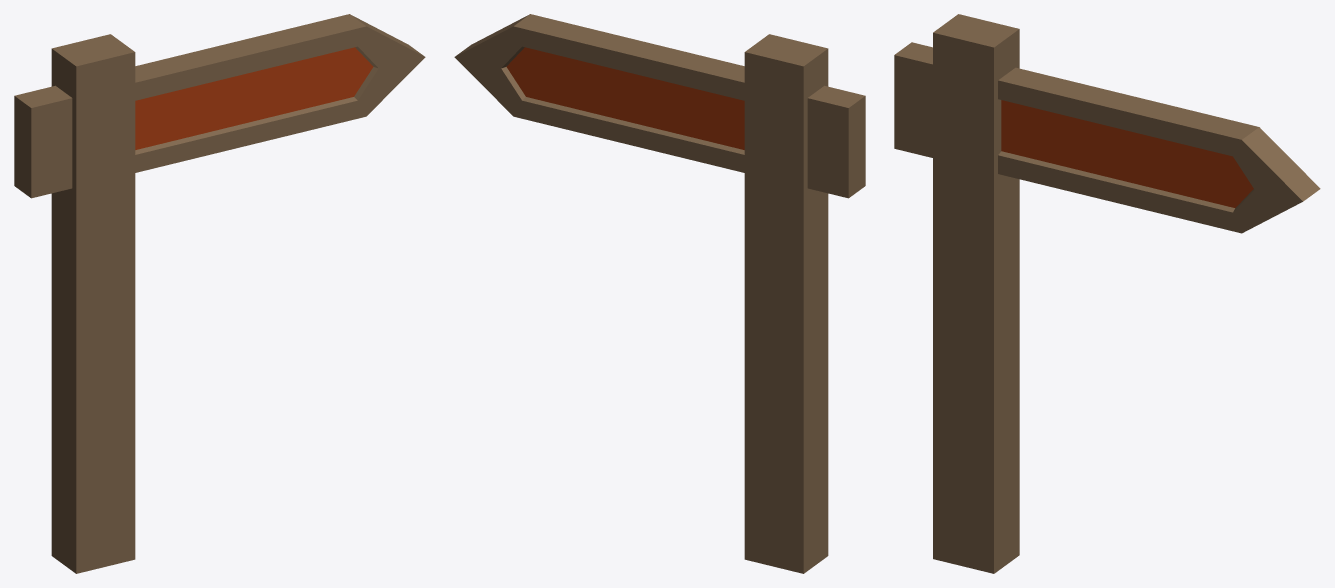
The model's file is SM_SignBoard_01_A.fbx.
3 views of the same model, side by side, from view 1: azimuth 30°, elevation 25°; view 2: azimuth 150°, elevation 25°; view 3: azimuth 330°, elevation 25° (orthographic). The views are drawn at different scales.
Visible parts, largest first — view 1: pCube717; view 2: pCube717; view 3: pCube717.
Part boxes in pixels (x1=…): pCube717: x1=14, y1=14, x2=425, y2=573; pCube717: x1=454, y1=14, x2=865, y2=573; pCube717: x1=894, y1=14, x2=1320, y2=573.
Size of the model in its own units: 120 by 148 by 13.
Materials: 1 (1 with a texture image).
